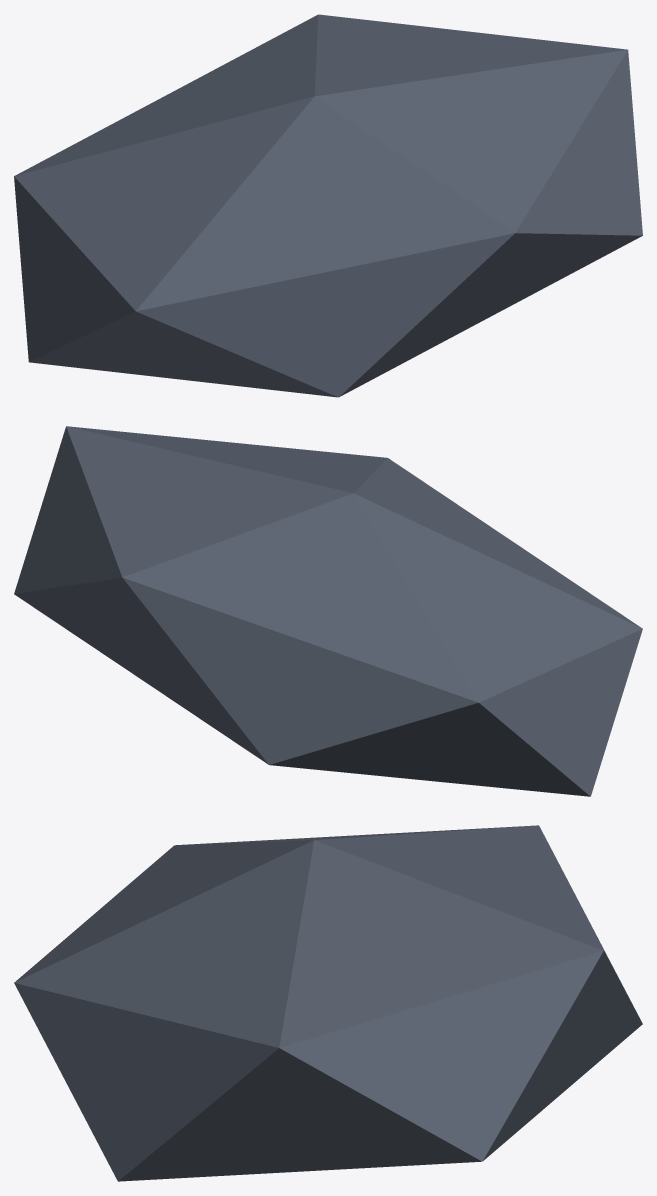
File: EXTG_SouthLooseStone_05.glb
3 views of the same model, one above another, from view 1: azimuth 30°, elevation 25°; view 2: azimuth 150°, elevation 25°; view 3: azimuth 270°, elevation 25° (orthographic). The views are drawn at different scales.
Visible parts, largest first — view 1: EXTG_SouthLooseStone_05; view 2: EXTG_SouthLooseStone_05; view 3: EXTG_SouthLooseStone_05.
Boxes of the visible parts, x1=… form: EXTG_SouthLooseStone_05: x1=14, y1=14, x2=642, y2=397; EXTG_SouthLooseStone_05: x1=14, y1=426, x2=642, y2=796; EXTG_SouthLooseStone_05: x1=14, y1=825, x2=642, y2=1181.
Size of the model in its own units: 0.8864 by 0.3576 by 0.6735.
